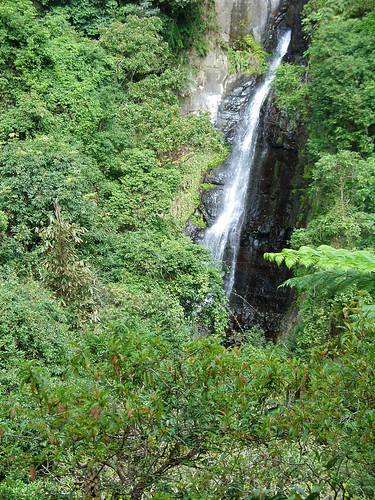wufengciWaterfall: (180, 17, 328, 356)
